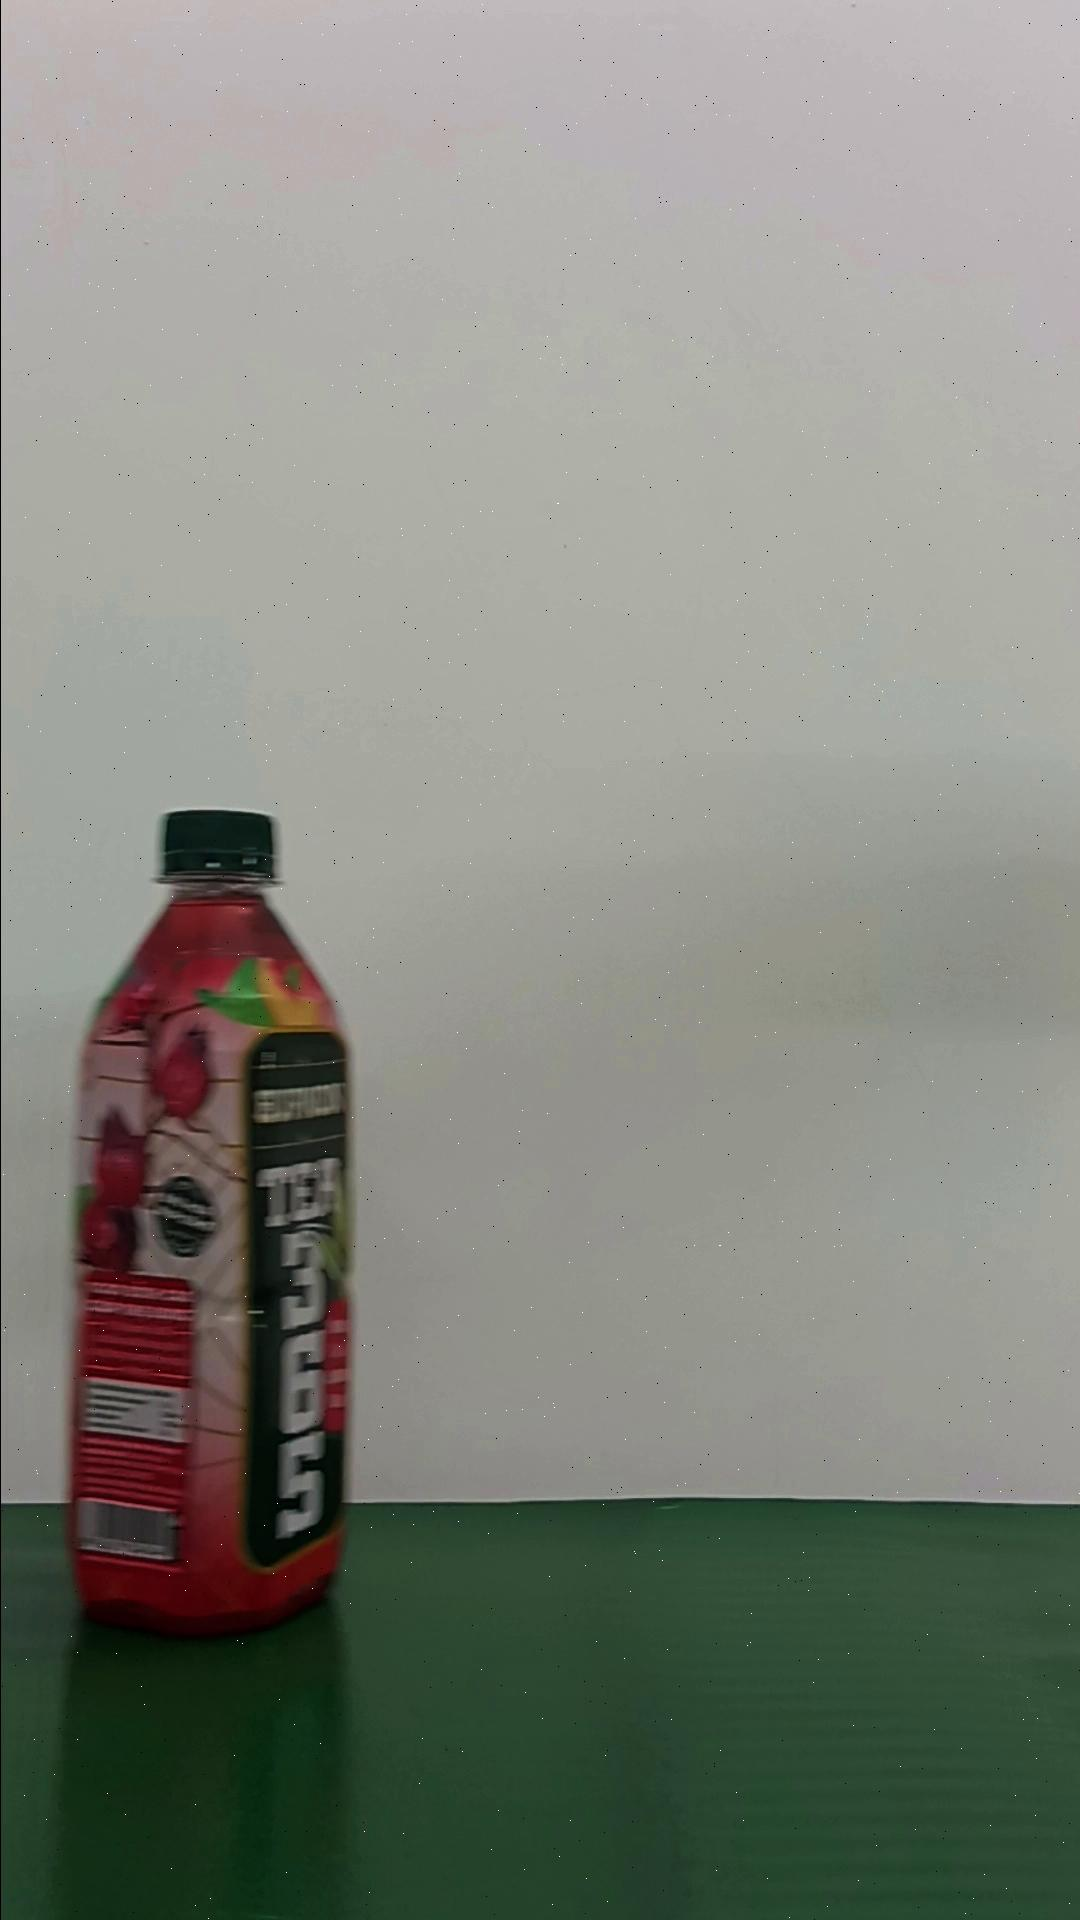khong loi: (65, 806, 355, 1638)
